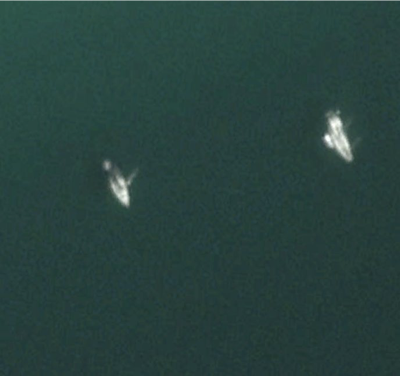boat: (322, 105, 356, 165), (100, 156, 133, 211)
